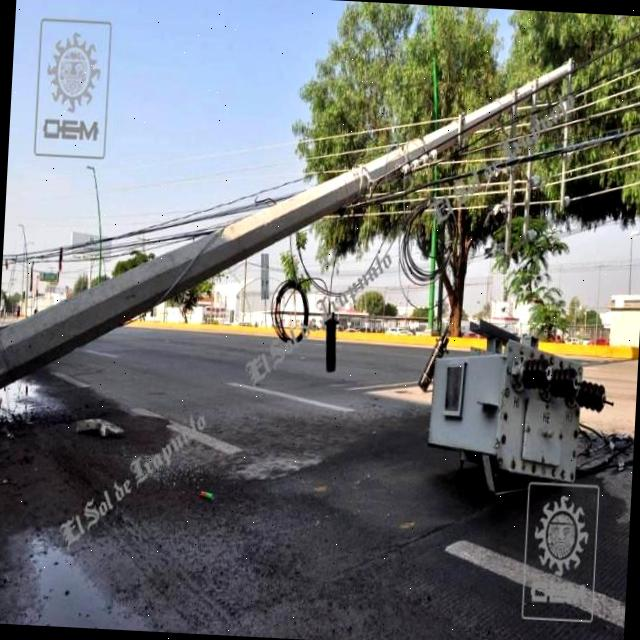Broken Pole: (0, 53, 575, 391)
